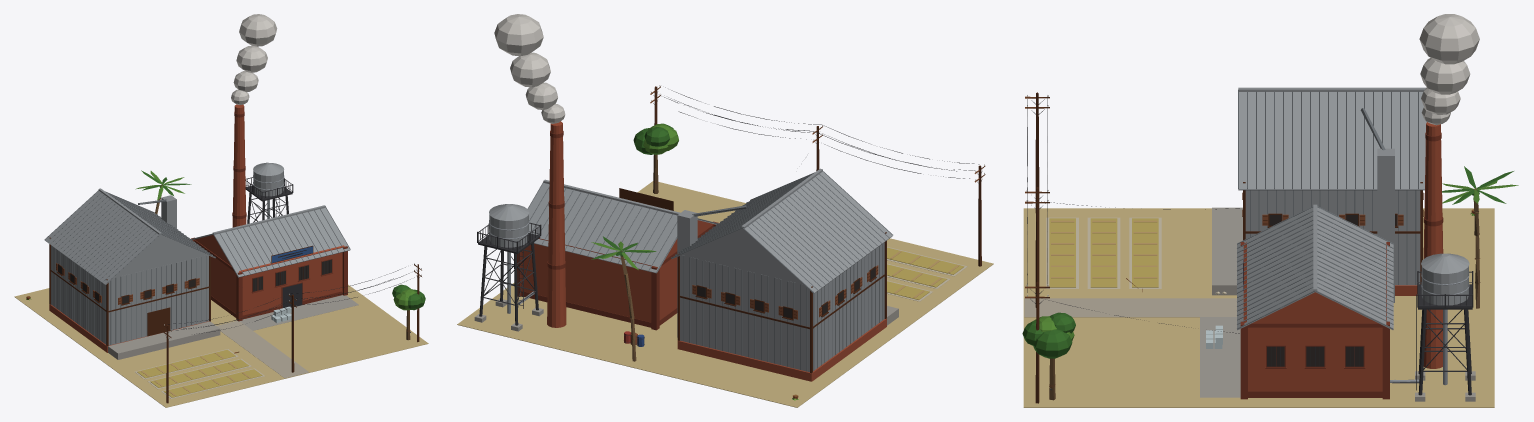
File: factory_4.glb
The picture shows the model from 3 angles, left to right: view 1: azimuth 30°, elevation 25°; view 2: azimuth 150°, elevation 25°; view 3: azimuth 270°, elevation 25°; orthographic projection. The views are drawn at different scales.
Parts seen in each view (by area): view 1: body, windows; view 2: body, windows; view 3: body, windows.
Boxes of the visible parts, x1=… form: body: x1=14, y1=14, x2=428, y2=407; windows: x1=58, y1=259, x2=331, y2=303; body: x1=457, y1=14, x2=993, y2=407; windows: x1=697, y1=267, x2=875, y2=318; body: x1=1022, y1=14, x2=1518, y2=407; windows: x1=1267, y1=215, x2=1396, y2=366.
Size of the model in its own units: 32.41 by 27.61 by 33.65.
